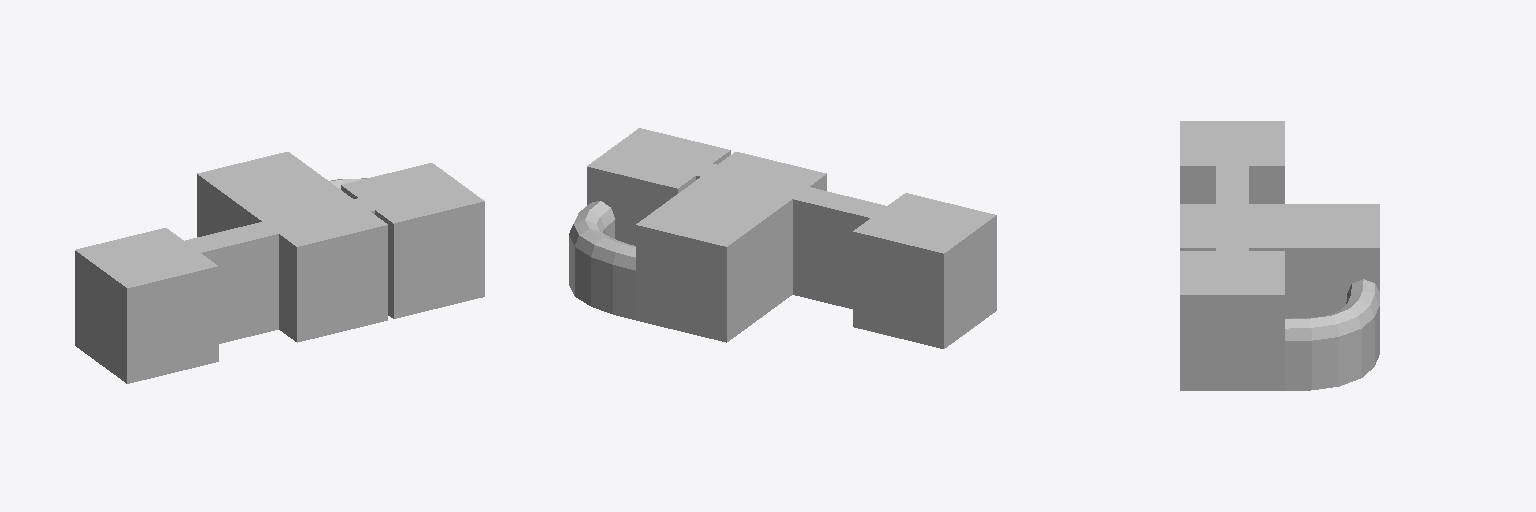
The model's file is BasicTestLevelClosed.obj.
3 views of the same model, side by side, from view 1: azimuth 30°, elevation 25°; view 2: azimuth 150°, elevation 25°; view 3: azimuth 270°, elevation 25° (orthographic).
Visible parts, largest first — view 1: pCube6; view 2: pCube6; view 3: pCube6.
Boxes of the visible parts, x1,y1,x2,y2 form: pCube6: [75, 152, 484, 383]; pCube6: [569, 128, 996, 348]; pCube6: [1180, 121, 1379, 390].
Bounding box in the file's own units: 19.55 × 5 × 9.5.